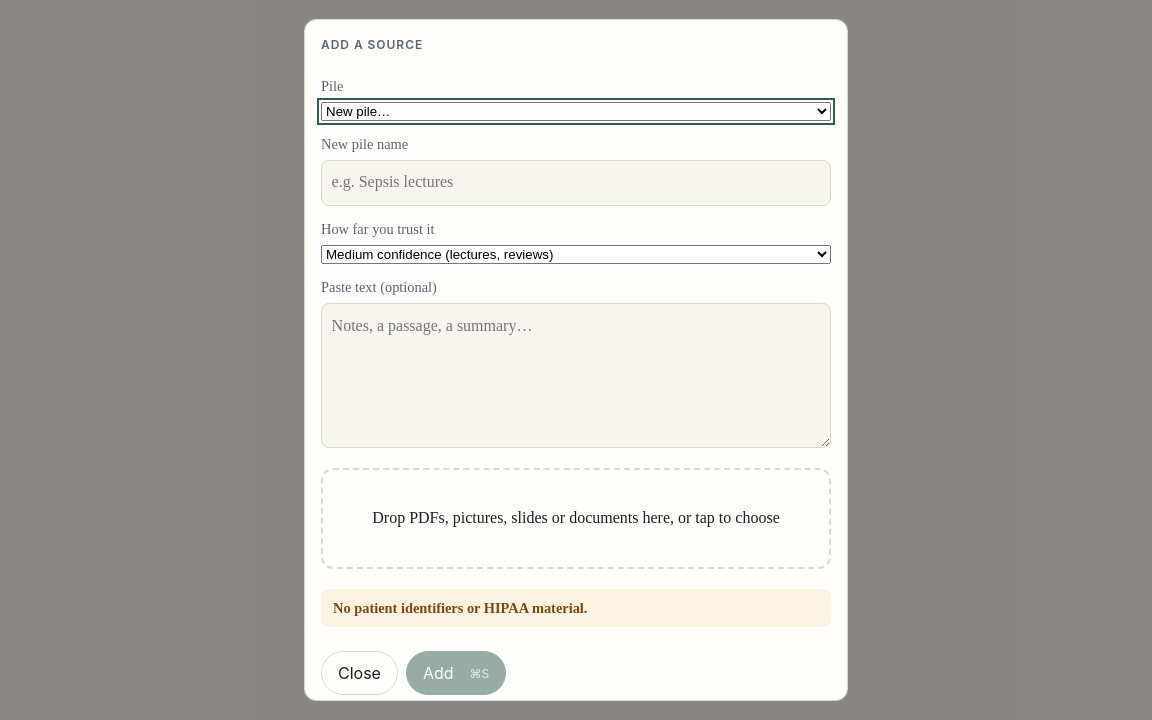
Test: Add source › on the phone, makes a new pile and uploads pasted text to it
Type "Night float" into the field labelled "New pile name" at (576,183), box [321, 160, 831, 206]
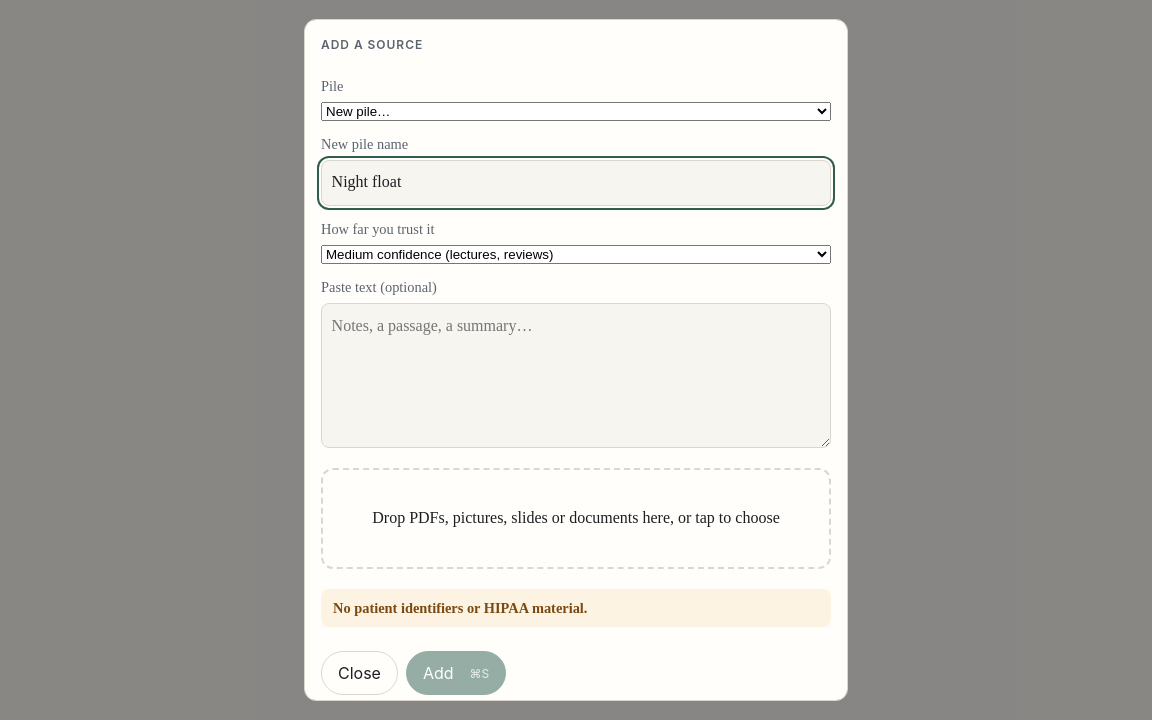
Type "Hyperkalaemia: calcium first." into the text box labelled "Paste text (optional)" at (576,376), box [321, 303, 831, 448]
(page scrolled)
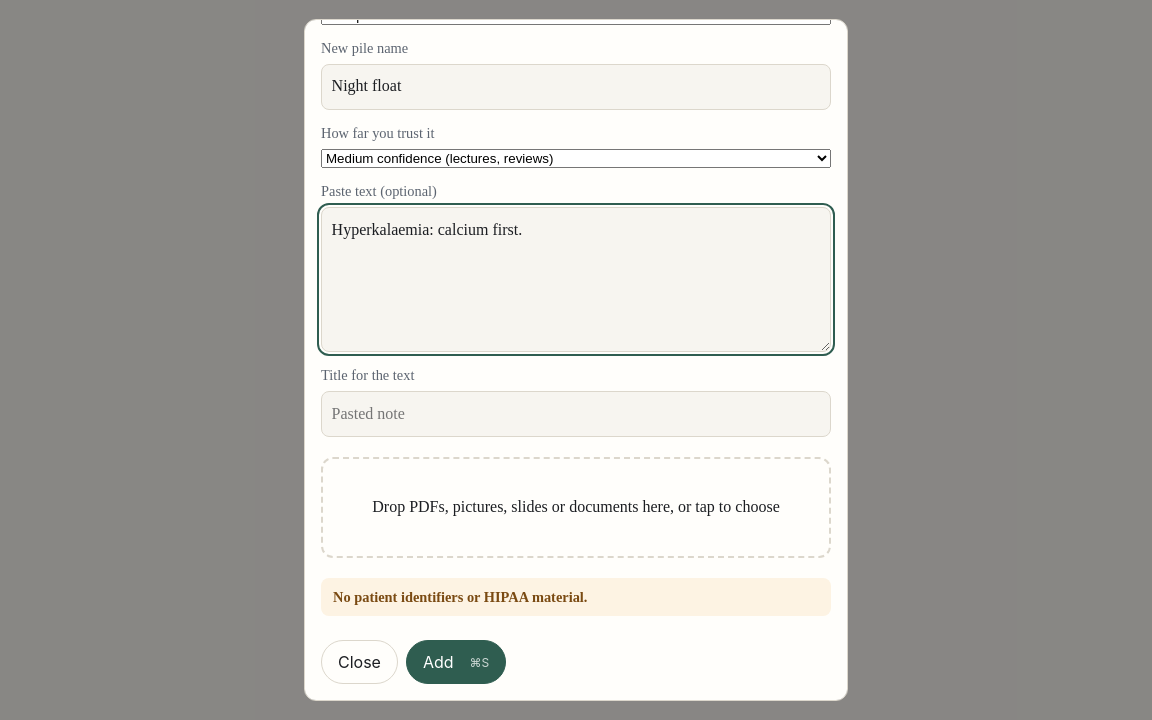
Click the button "Add ⌘S" at (456,662), box [406, 640, 506, 684]
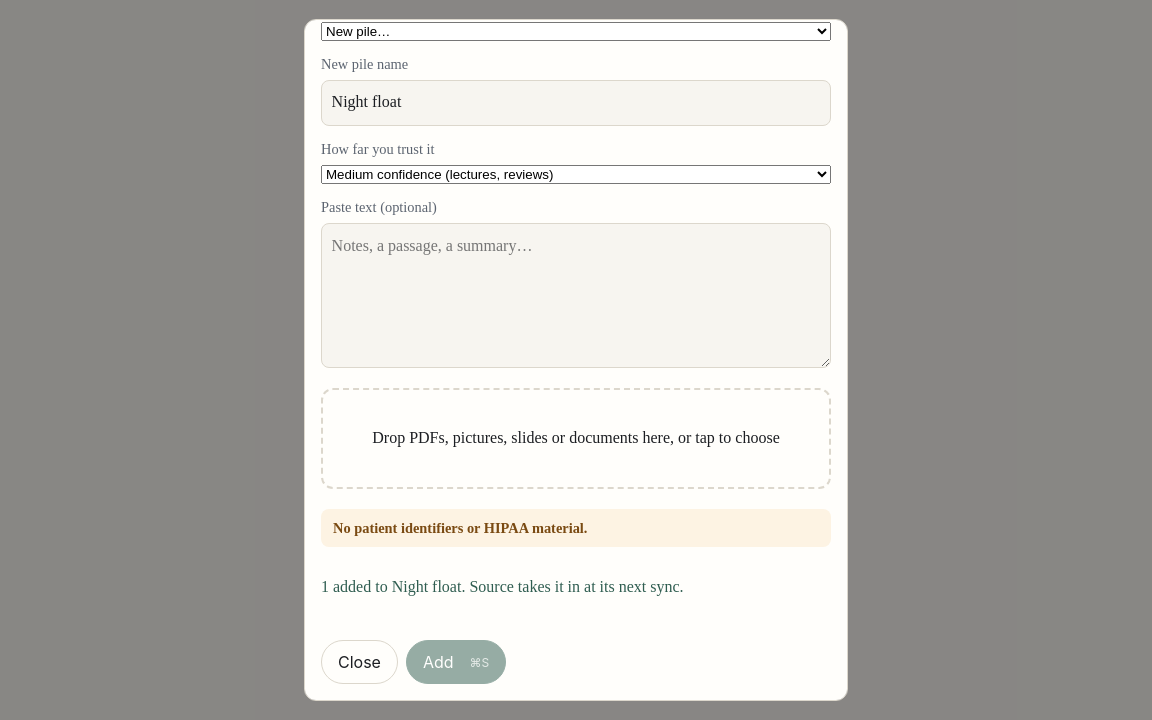
Now the text "1 added to Night float. Source takes it in at its next sync." is shown, box [321, 578, 684, 595]
